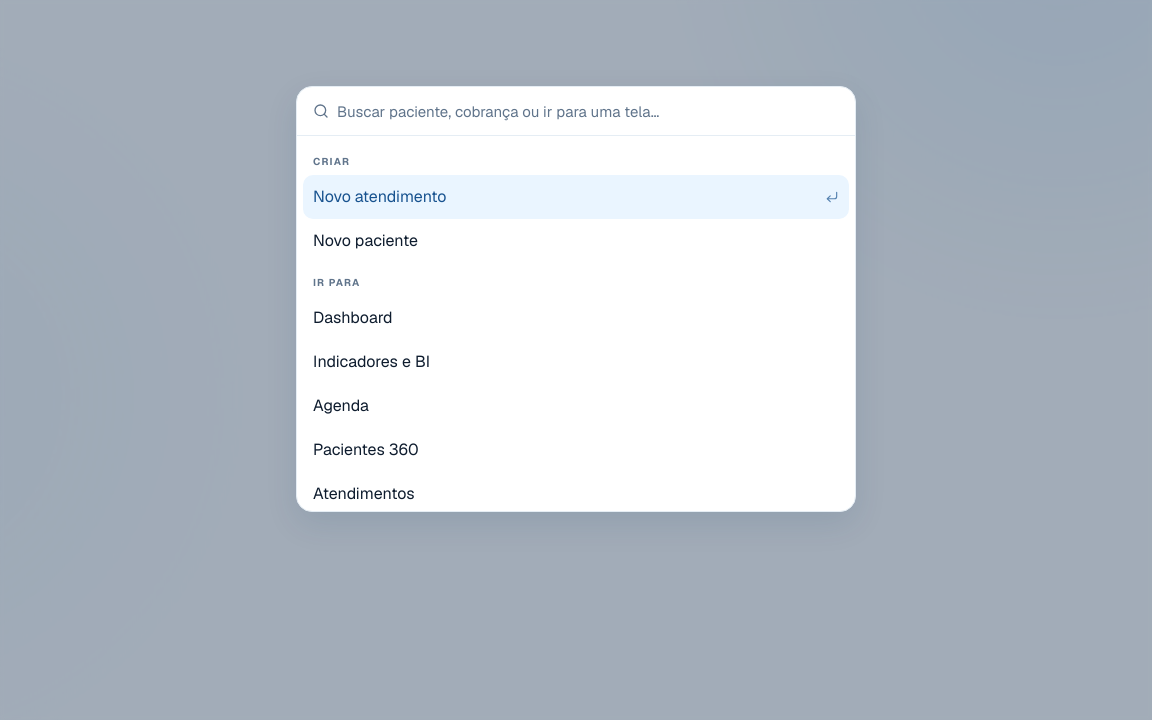
Scenario: filtragem › oferece buscar paciente a partir de dois caracteres
Type "m" into the dropdown.
click(588, 111); type("m")  # box [337,87,839,135]
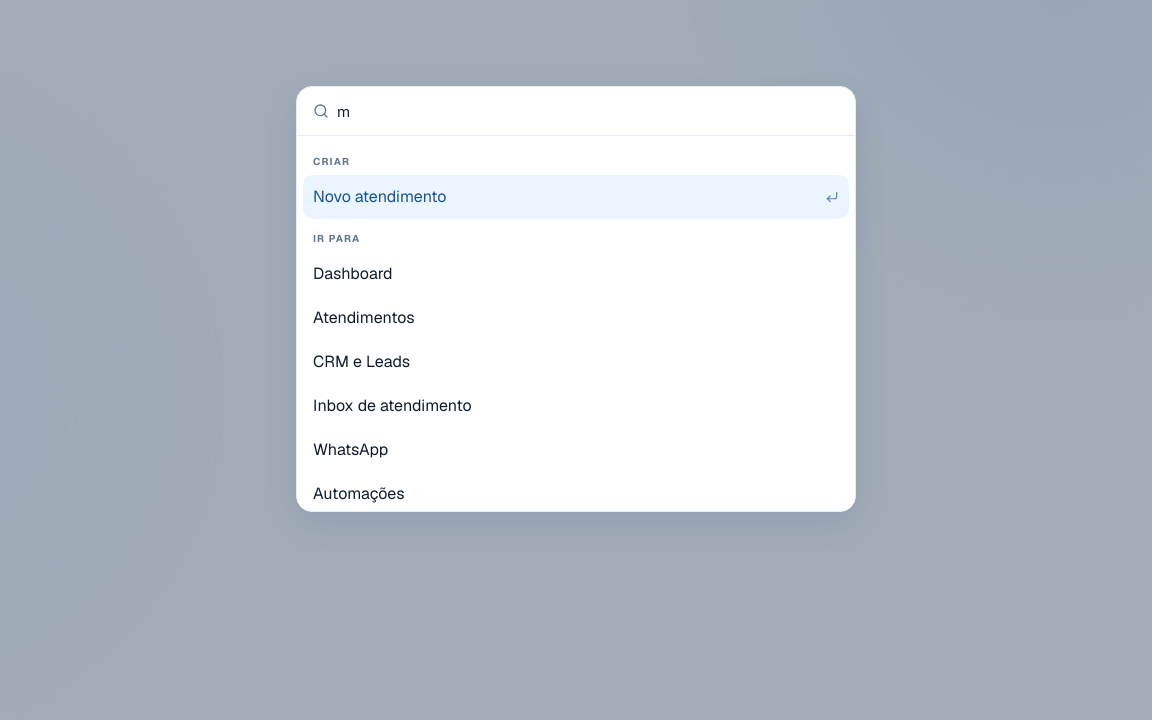
Expected: the text "Buscar pacientes por" is not shown
Replace the text in the dropdown with "ma" at (588,111), box [337,87,839,135]
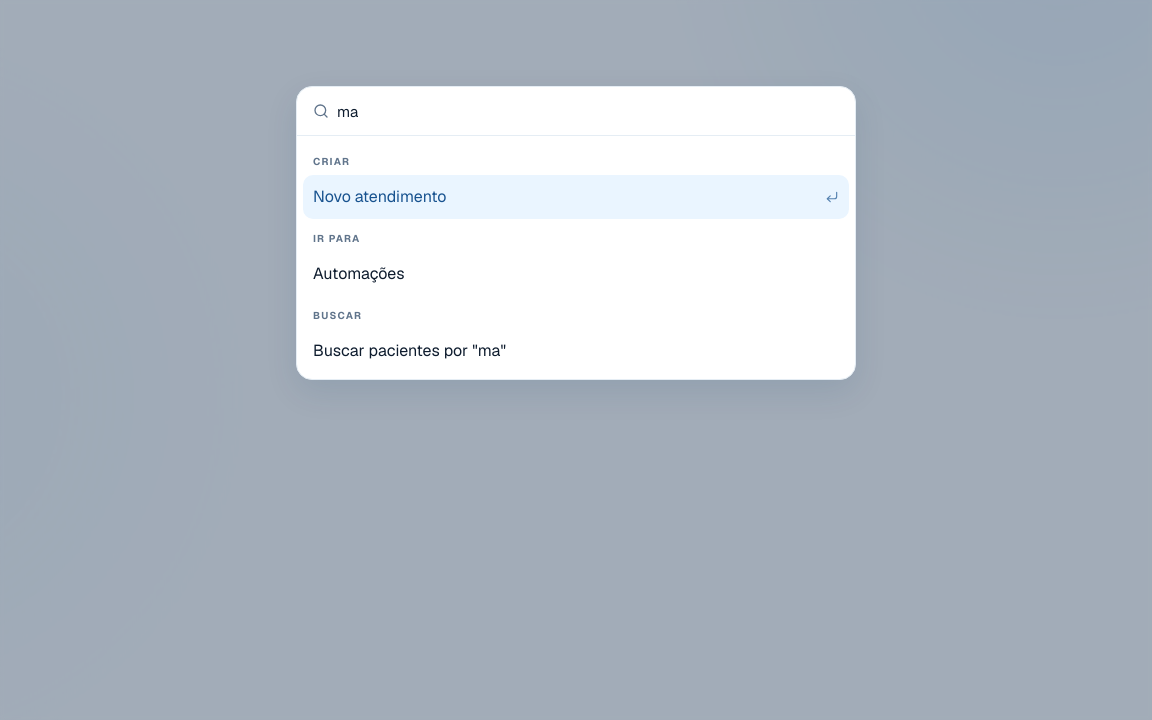
Now the text "Buscar pacientes por \"ma\"" is shown, box [313,340,506,361]
